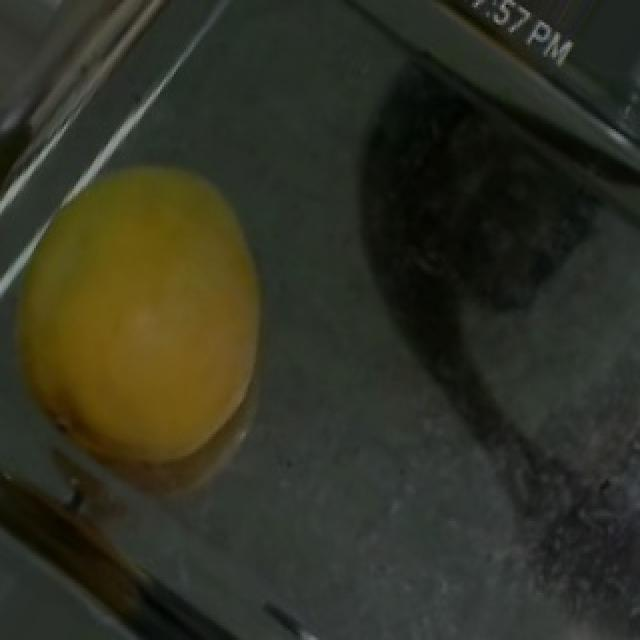fruit: (6, 114, 364, 524)
